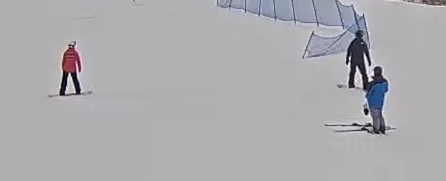snowboarder: (38, 31, 102, 105), (330, 22, 389, 98)
